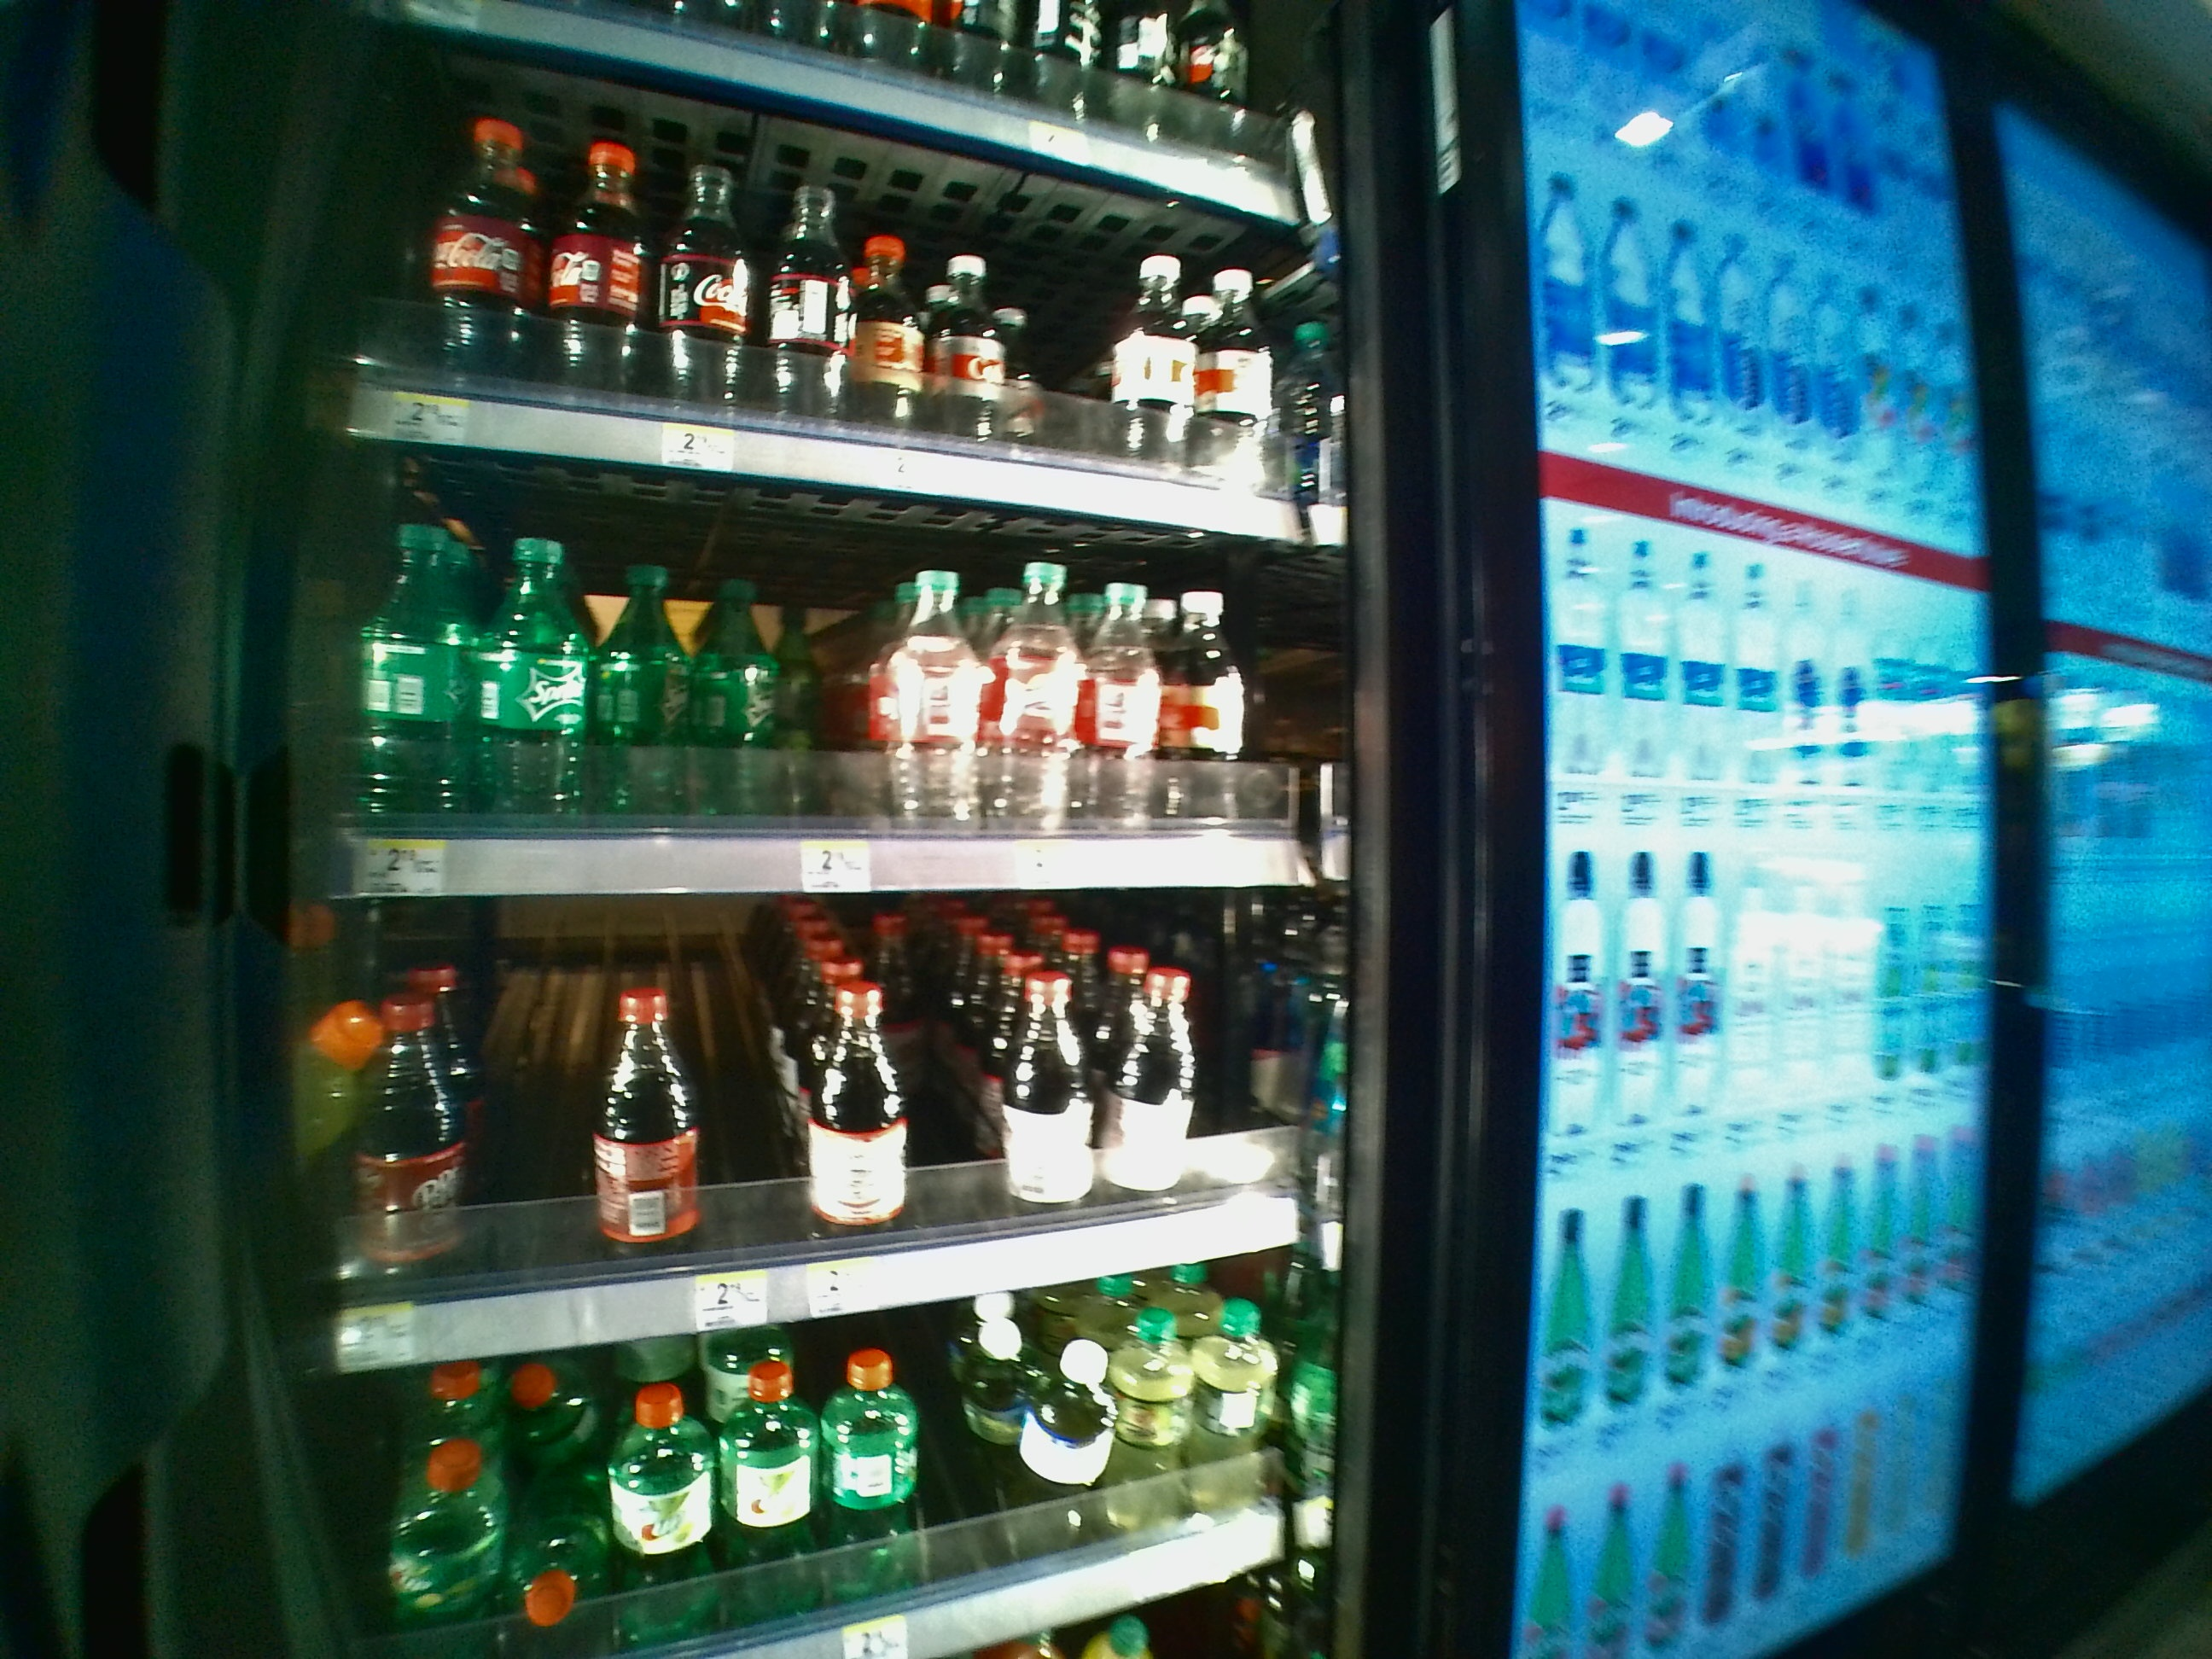shelf: (354, 521, 1332, 885), (331, 897, 1299, 1255)
